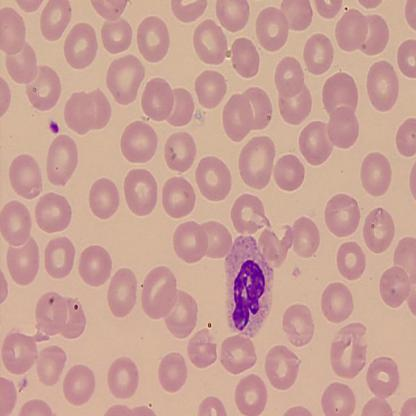Segmented neutrophil: (223, 234, 274, 341)
